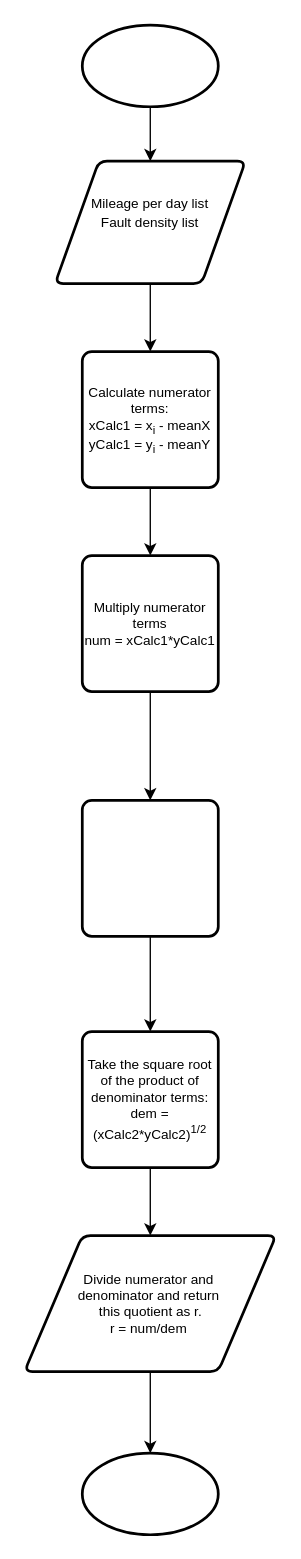
The diagram is 301 pixels wide and 1559 high, and some of its shapes have lost their labels. Here are the shapes that lost their labels. From the top down, the centre of each, then its label:
the point at 149,65: Start
the point at 149,867: Calculate denominators: xCalc2 = xCalc1 2 yCalc2 = yCalc1 2
the point at 149,1493: End
